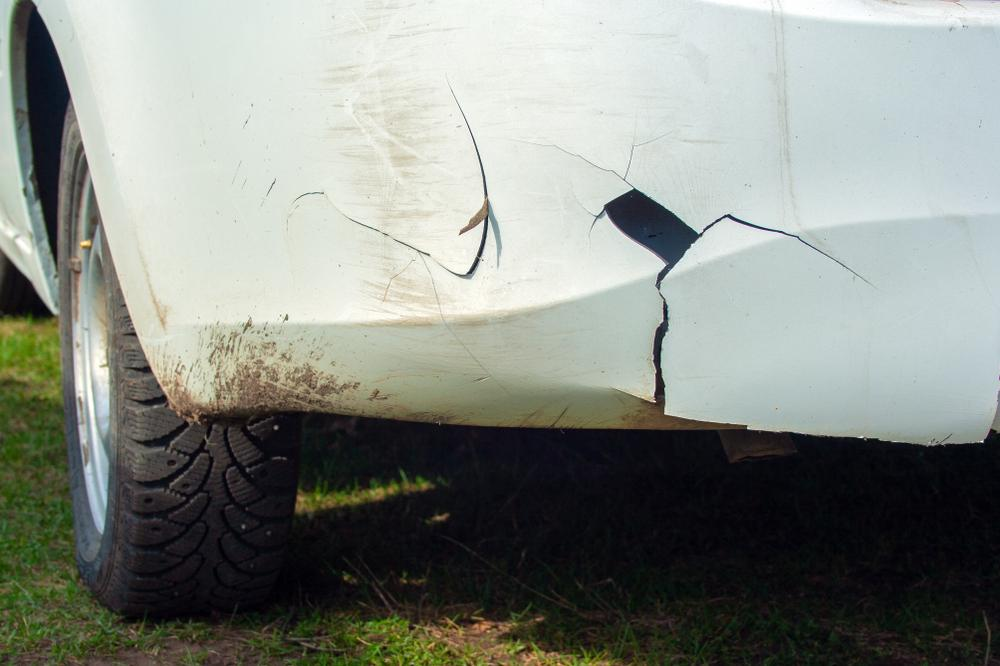crack: (506, 128, 881, 414), (286, 74, 505, 391)
